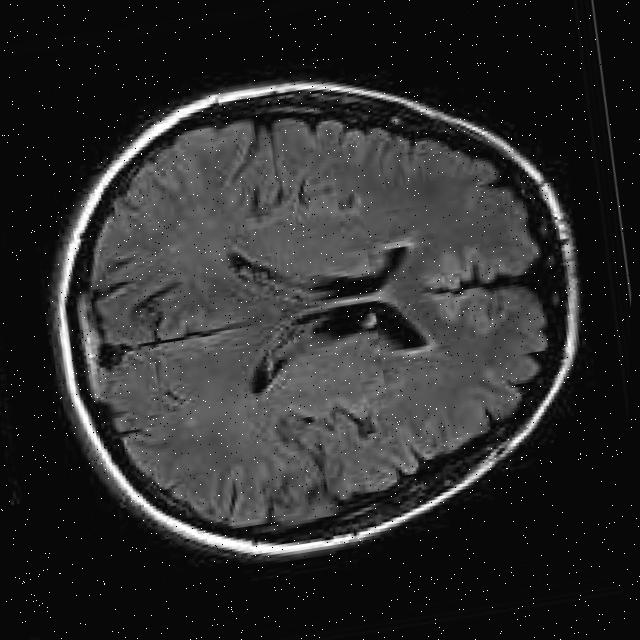NoTumor: (3, 34, 620, 597)
